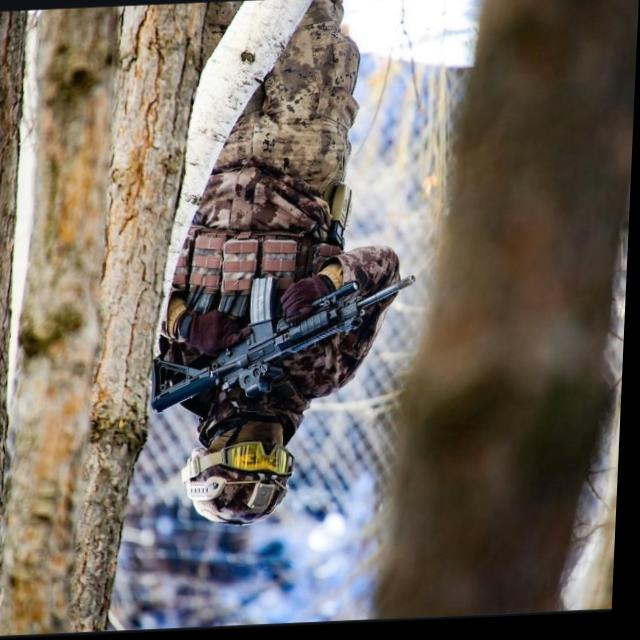poh_personel: (157, 0, 416, 533)
